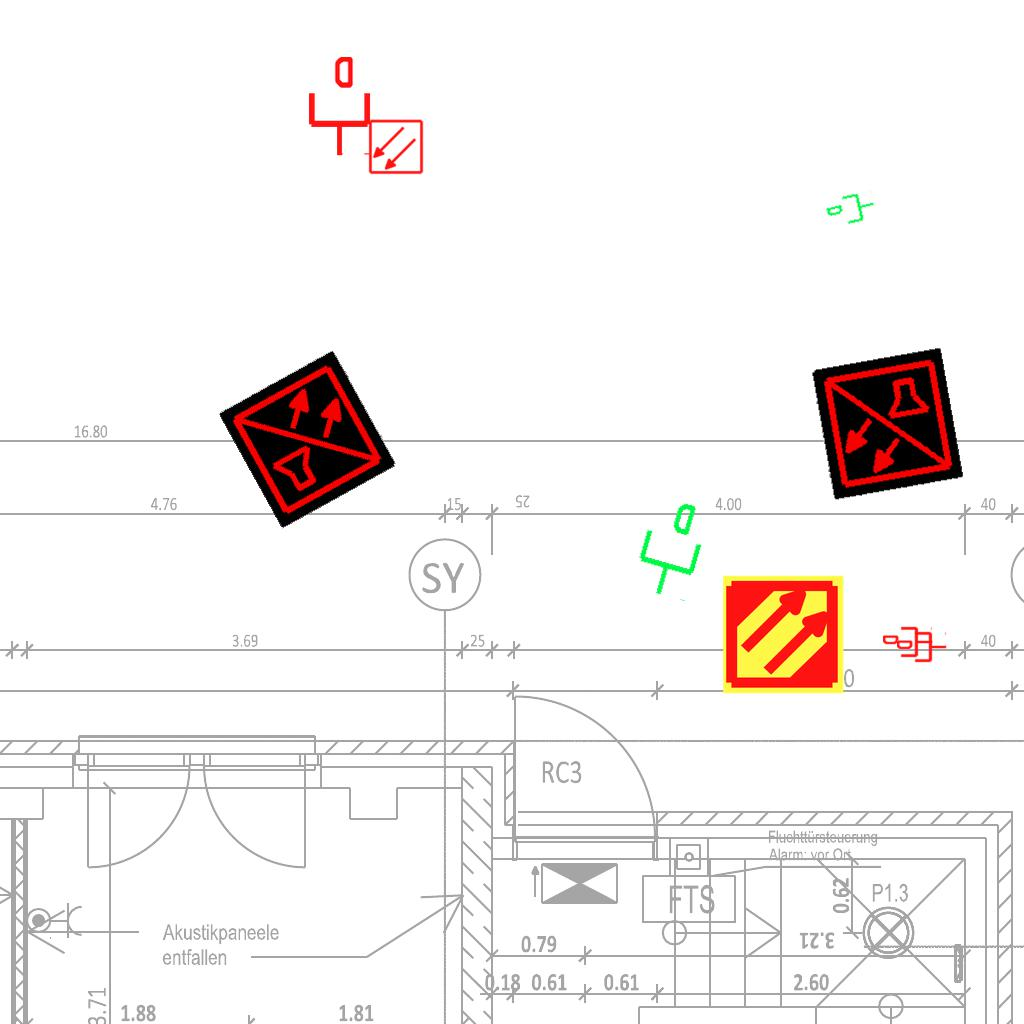ASR_Ansaugrauchmelder: (721, 572, 846, 697)
Datenanschluss_einfach: (622, 490, 717, 606), (305, 57, 374, 157), (822, 187, 880, 233), (883, 625, 933, 659), (897, 630, 947, 664)
OKW_Multisensormelder_(Kombination_optischer_Rauch-Kahlenmonoxid_Waerme-Melder): (218, 349, 398, 529), (810, 347, 964, 501)
RMO_Rauchmelder_optischer: (368, 119, 424, 175)
